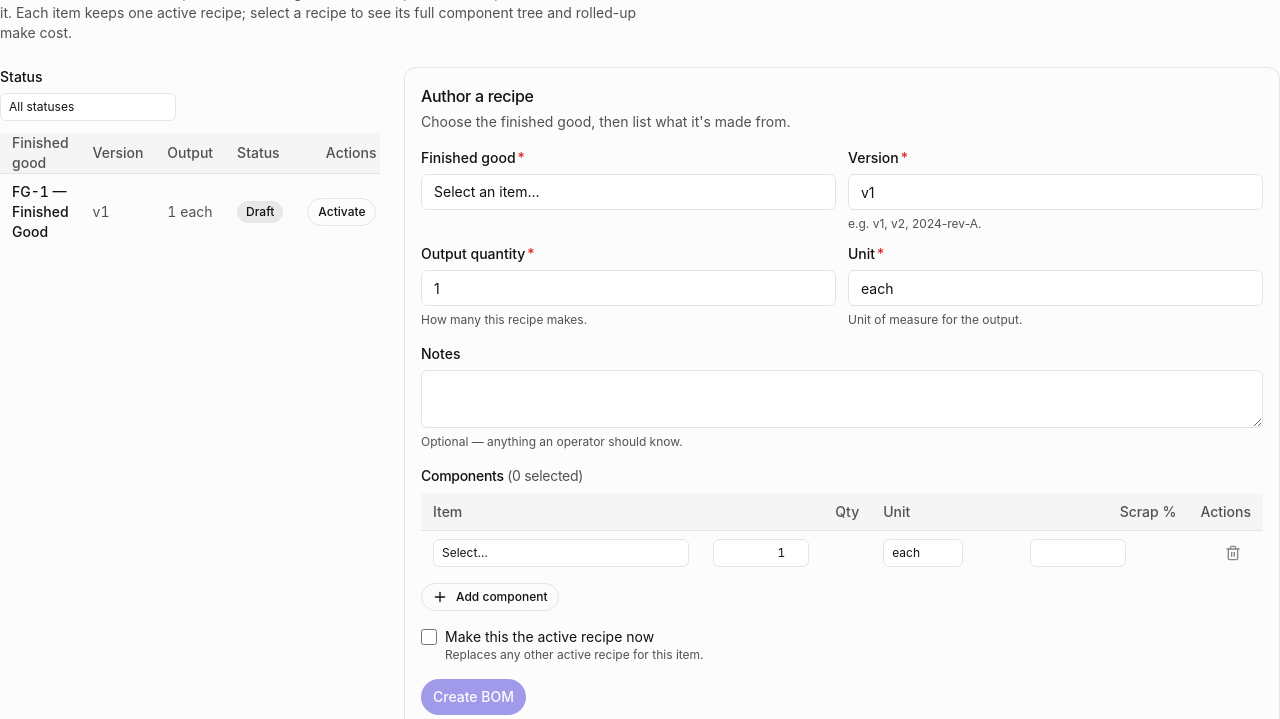
Test: BOMPage › opens a recipe and rolls component costs up into a make cost
The image size is (1280, 719).
Click the cell "FG-1 — Finished Good": point(40, 212) top-left (0, 174), bottom-right (81, 250)
(page scrolled)
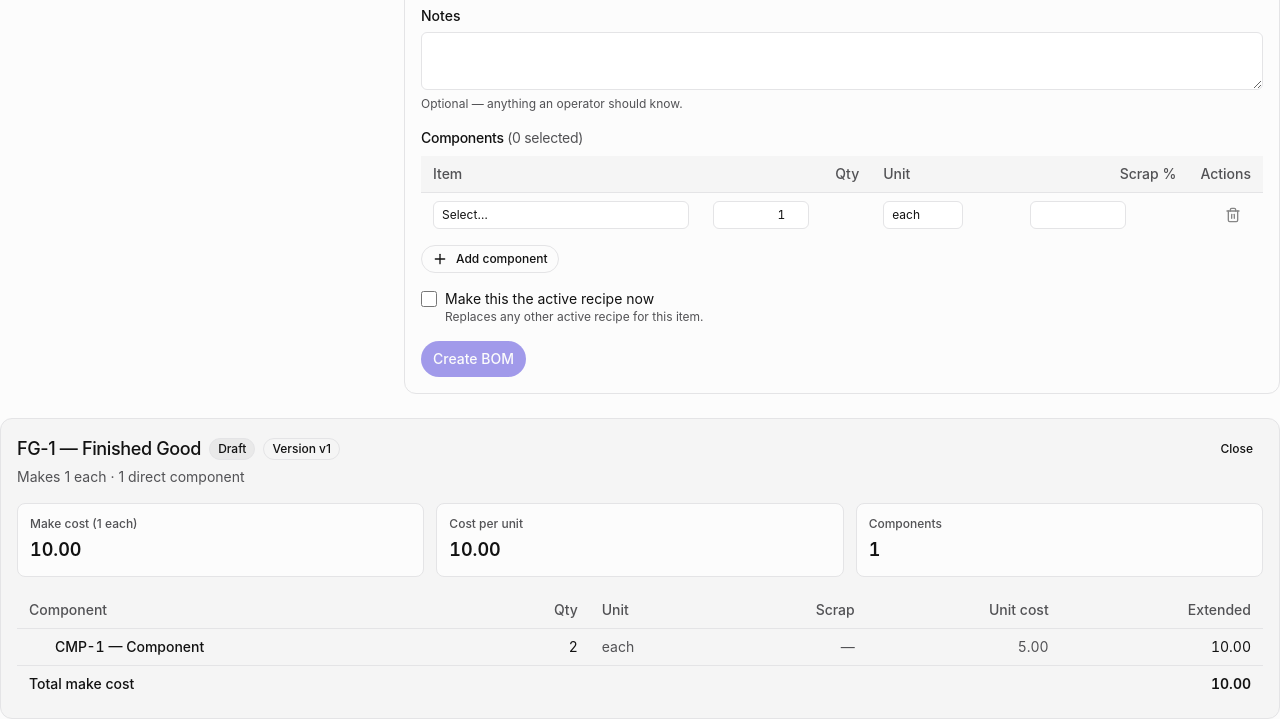
Expected: the text "CMP-1 — Component" is shown, top-left (55, 637), bottom-right (204, 657)
Expected: the text "10.00" below "Make cost (1 each)" is shown, top-left (30, 538), bottom-right (81, 560)
